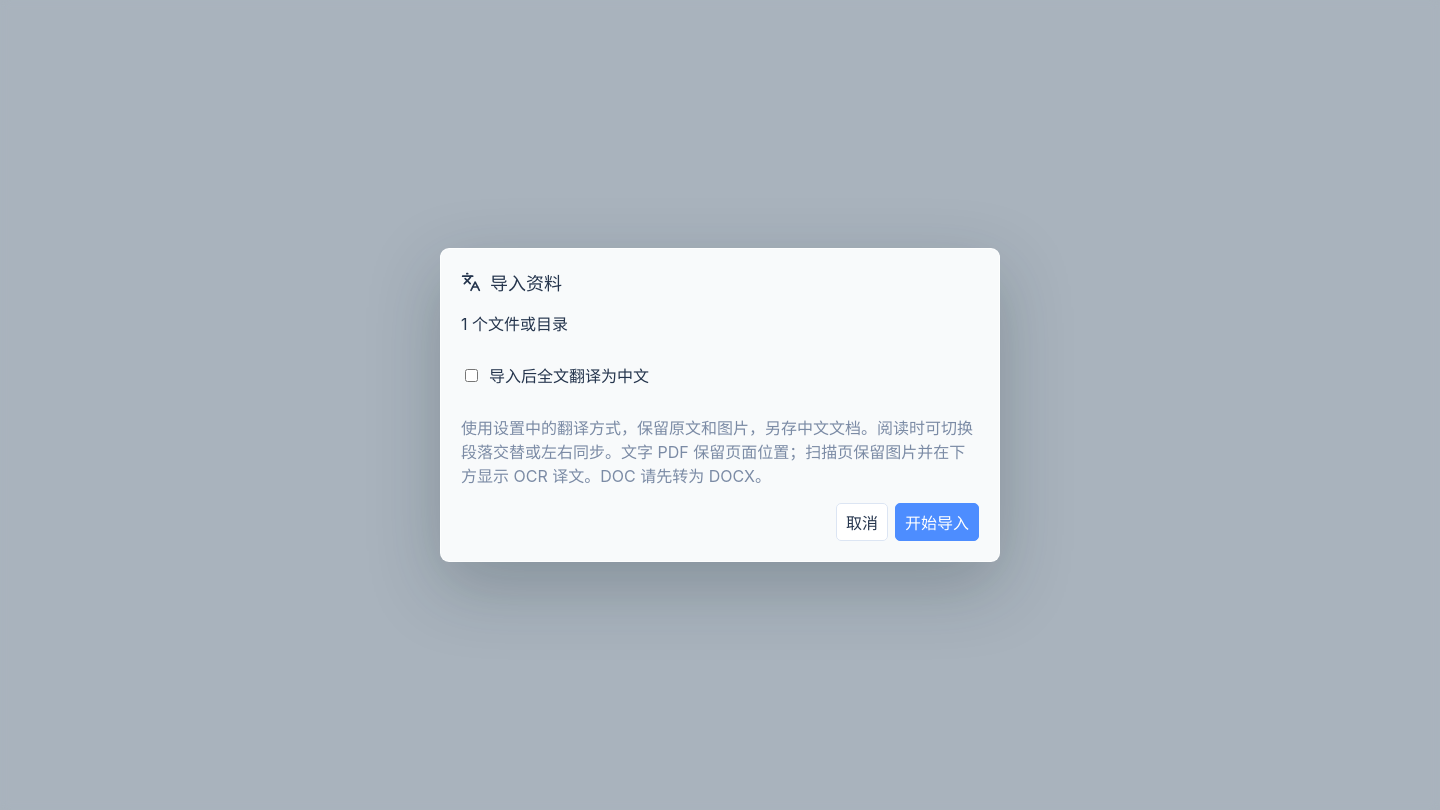
Scenario: does not translate unless the import option is checked
Later steps or results of the test are not shown.
Check: the checkbox is not checked, box [465,368,478,382]
Click the button "开始导入".
click(937, 522)  # box [895,503,979,541]
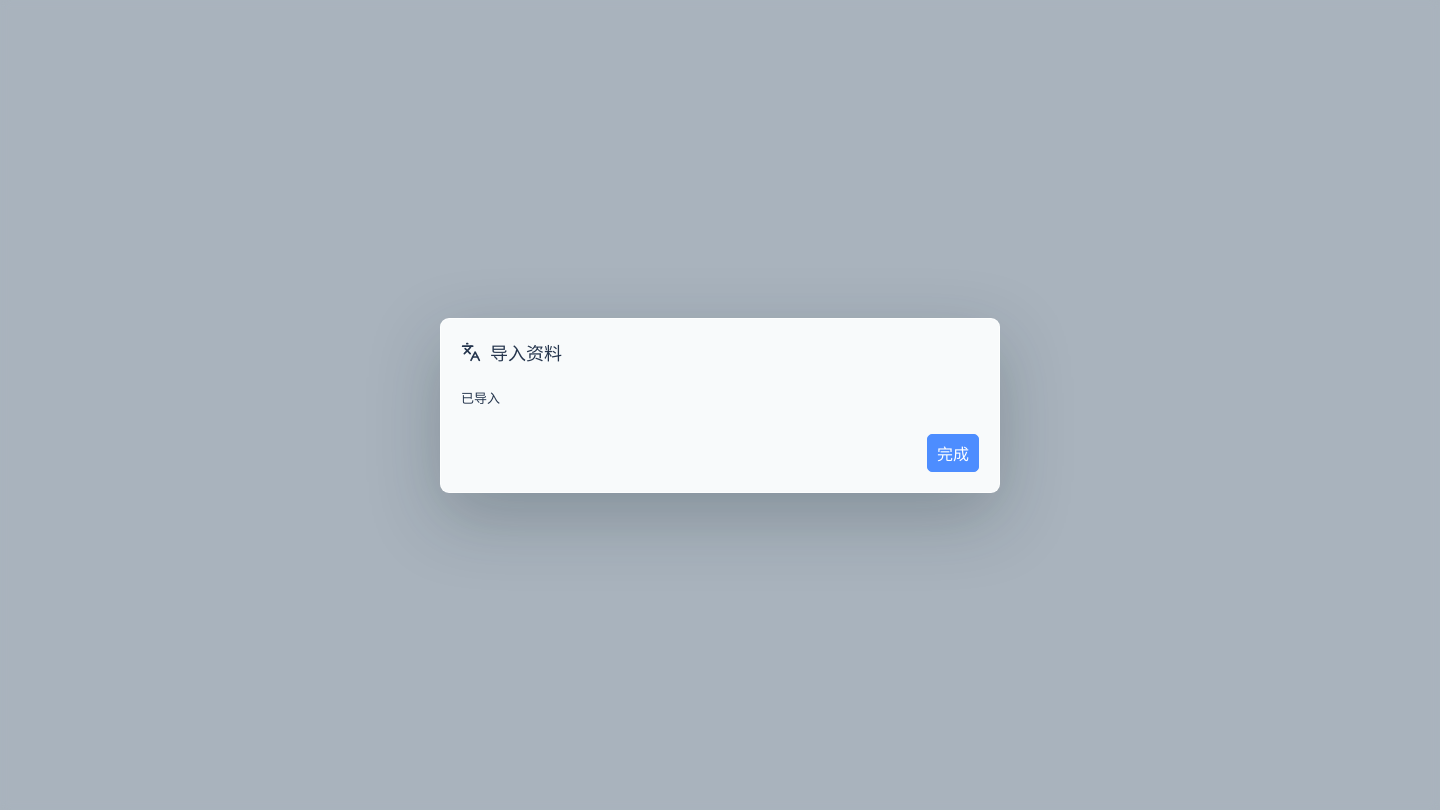
Check: the button "完成" is shown, box [927,434,979,472]
